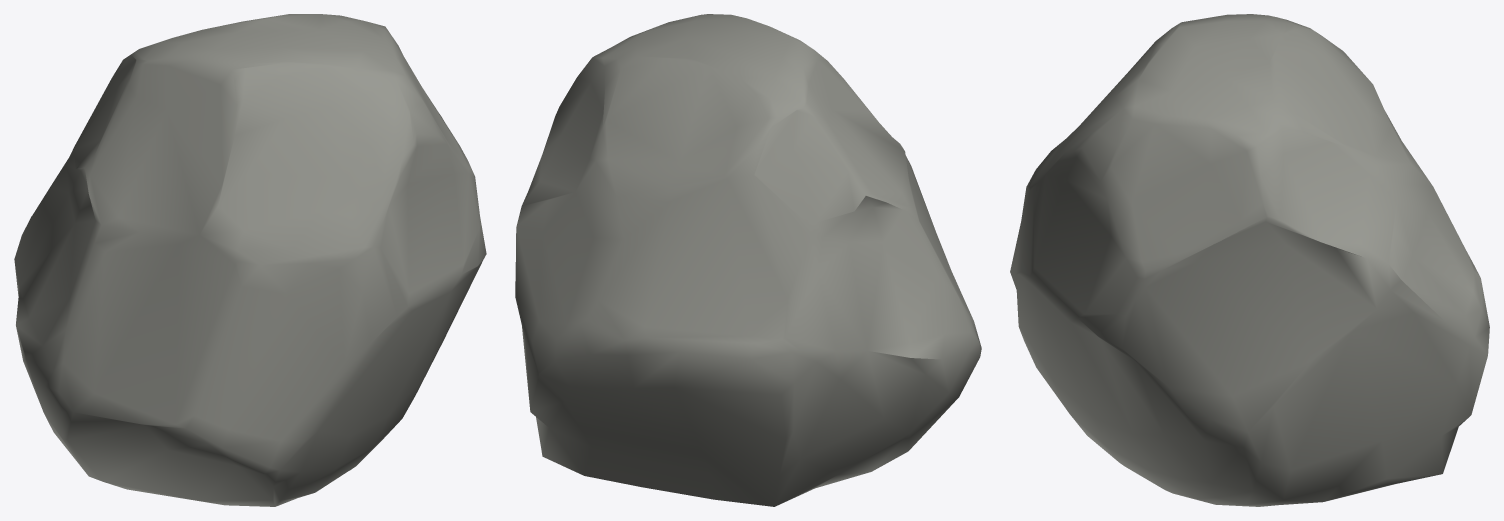
The model's file is quaternius-pirate-environment-rock-4.glb.
3 views of the same model, side by side, from view 1: azimuth 30°, elevation 25°; view 2: azimuth 150°, elevation 25°; view 3: azimuth 270°, elevation 25° (orthographic). The views are drawn at different scales.
Visible parts, largest first — view 1: Environment_Rock_4; view 2: Environment_Rock_4; view 3: Environment_Rock_4.
Part boxes in pixels (x1,y1,x2,y2): Environment_Rock_4: [14, 14, 486, 506]; Environment_Rock_4: [515, 14, 981, 506]; Environment_Rock_4: [1010, 14, 1489, 506].
Bounding box in the file's own units: 0.7628 × 0.7114 × 0.746.
Materials: 1 (1 with a texture image).
